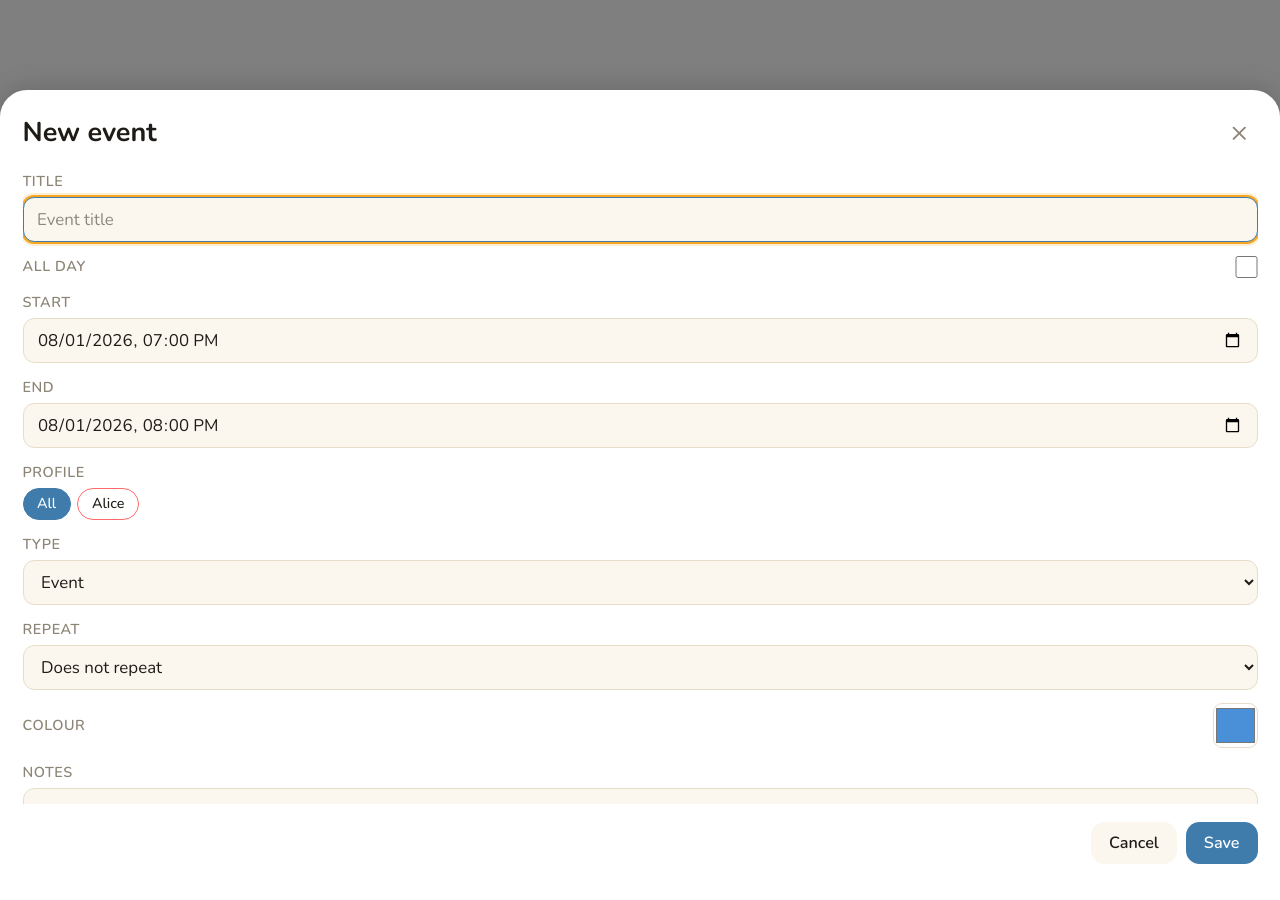
Test case: EventModal — validation › shows end-time error when end is before start
In the field labelled "Title": (640, 220) [22,197,1258,242], type "Bad times"
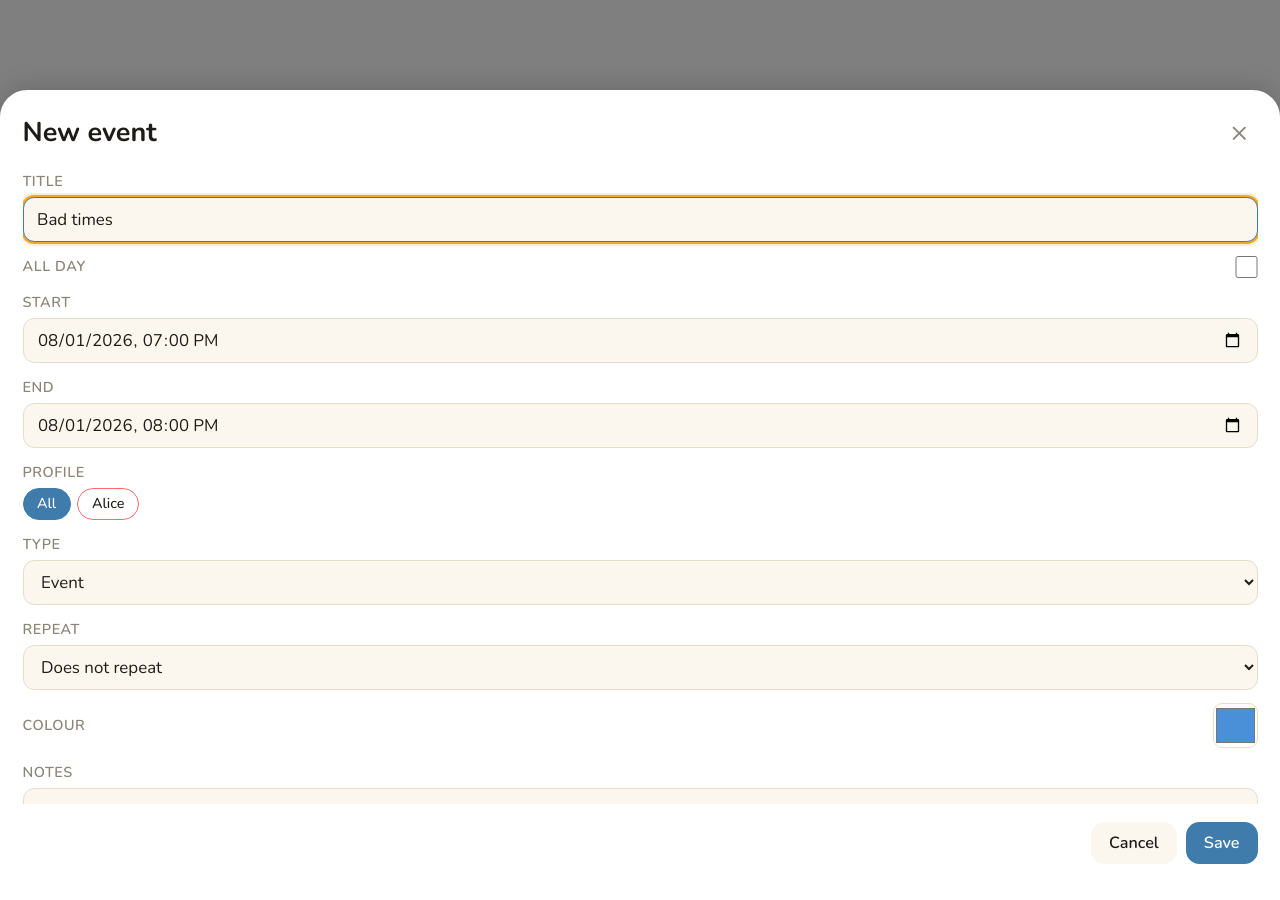
Replace the text in the field labelled "Start" with "2026-05-13T10:00": (640, 341) [22,318,1258,363]
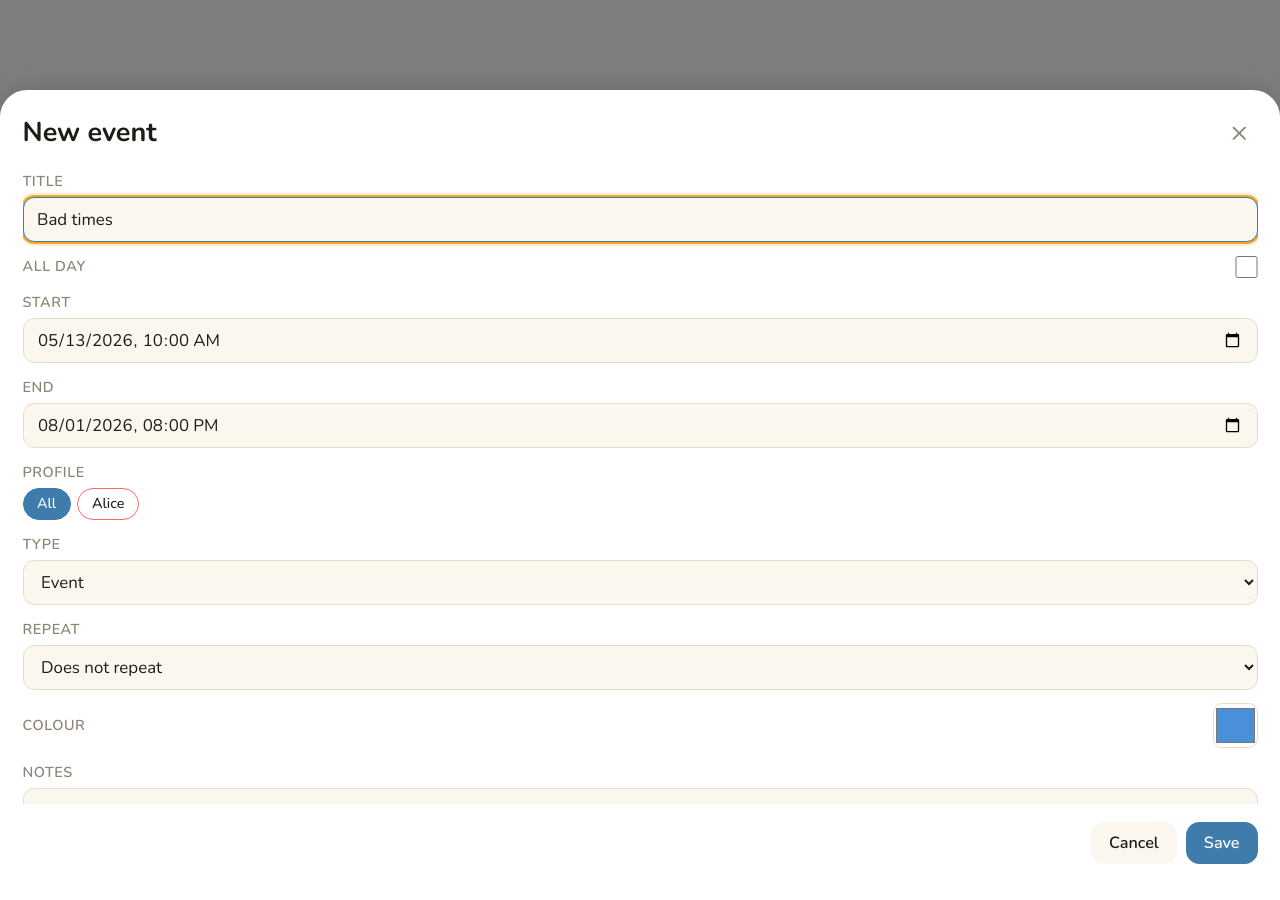
Replace the text in the field labelled "End" with "2026-05-13T09:00": (640, 426) [22,403,1258,448]
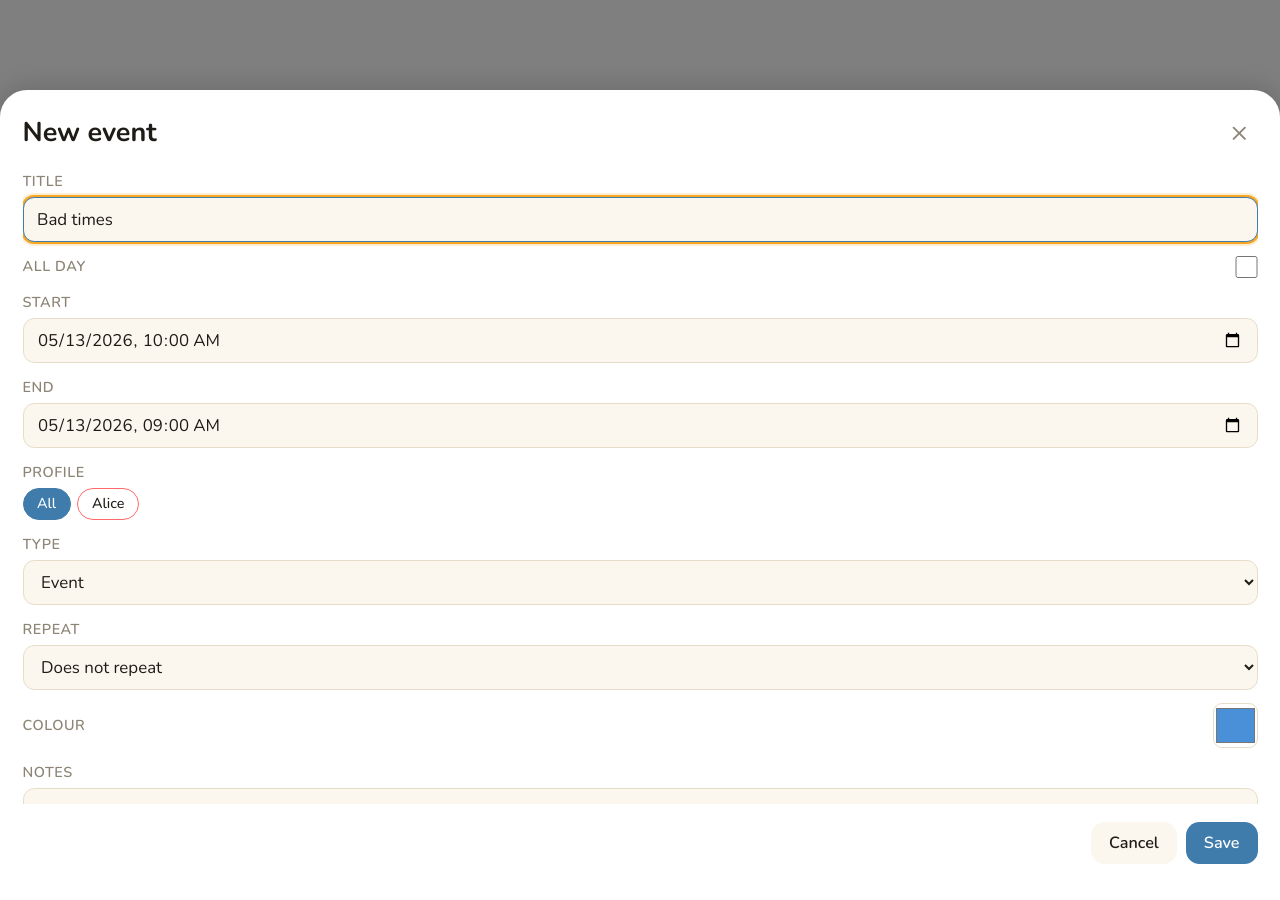
Click the button "Save": (1222, 843) [1186,822,1258,864]
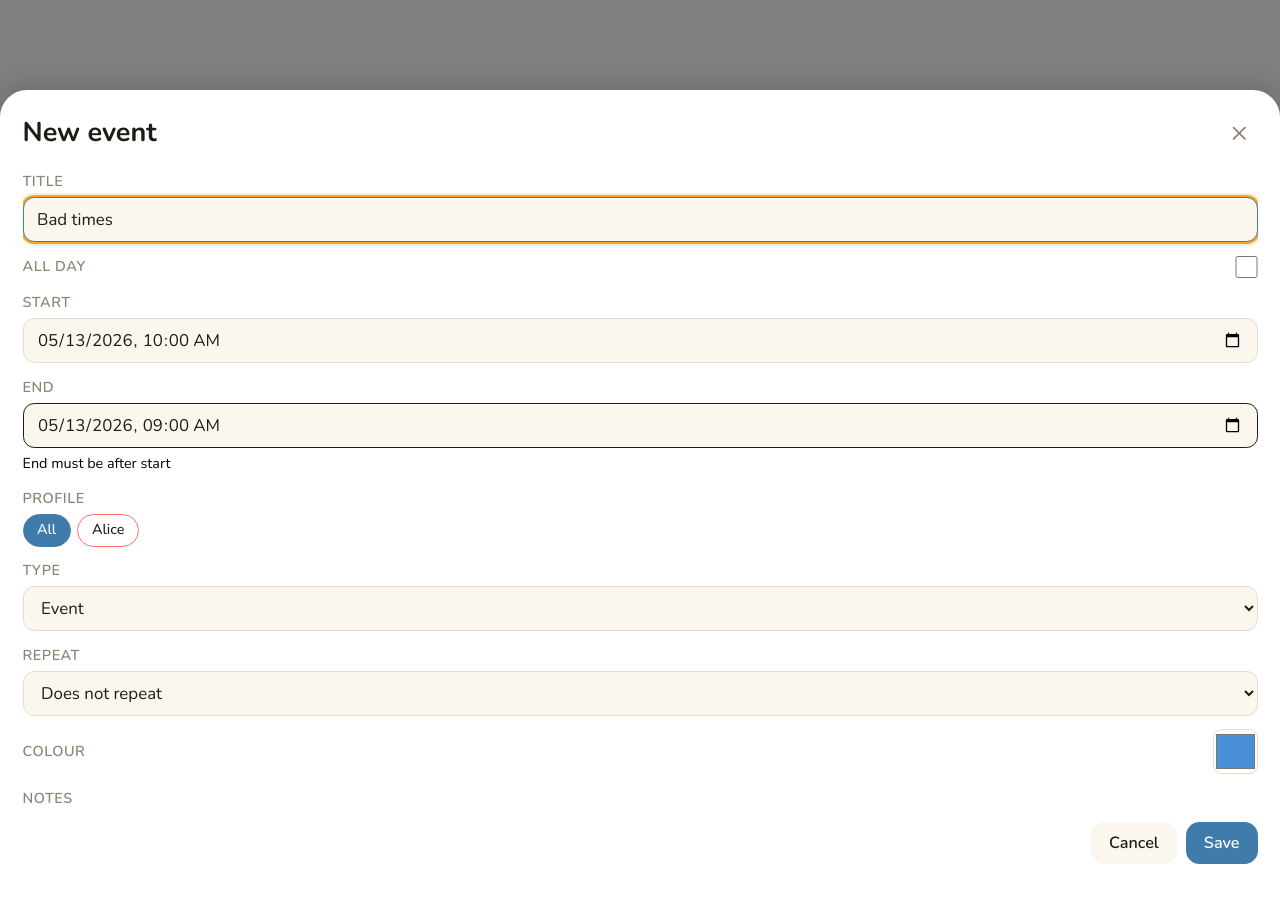
Expected: the text "End must be after start" is shown, [22,453,171,473]
